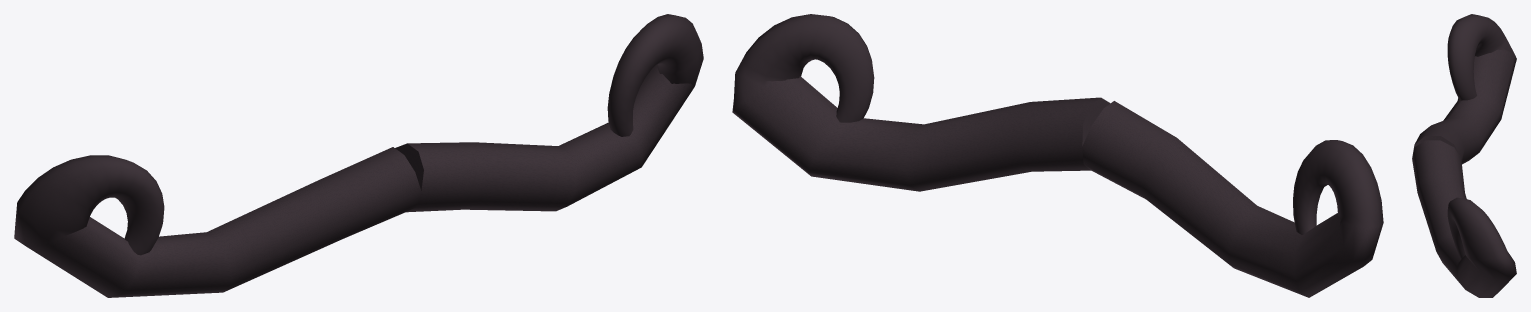
Rendered from facial_french_curl_default.gltf.
3 renders of one model, left to right at view 1: azimuth 30°, elevation 25°; view 2: azimuth 150°, elevation 25°; view 3: azimuth 270°, elevation 25°, orthographic. The views are drawn at different scales.
Parts seen in each view (by area): view 1: French Curl Moustache; view 2: French Curl Moustache; view 3: French Curl Moustache.
Part boxes in pixels (x1=…): French Curl Moustache: x1=14, y1=14, x2=703, y2=297; French Curl Moustache: x1=732, y1=14, x2=1383, y2=297; French Curl Moustache: x1=1412, y1=14, x2=1516, y2=297.
Bounding box in the file's own units: 0.246 × 0.0544 × 0.049.
Materials: 1 (1 with a texture image).
